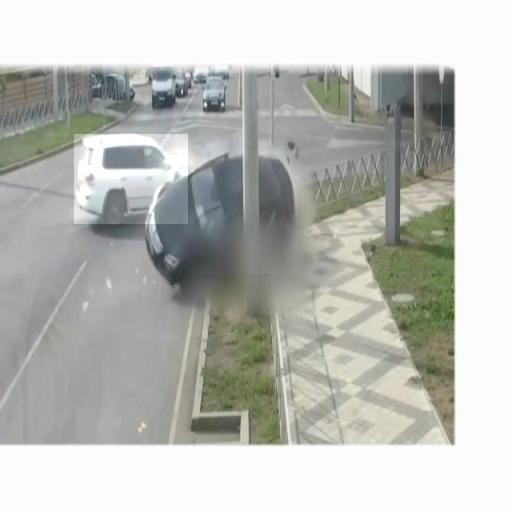小汽车: (74, 134, 188, 224), (148, 68, 178, 108), (202, 76, 230, 113)
小汽车撞物: (152, 150, 298, 274)
